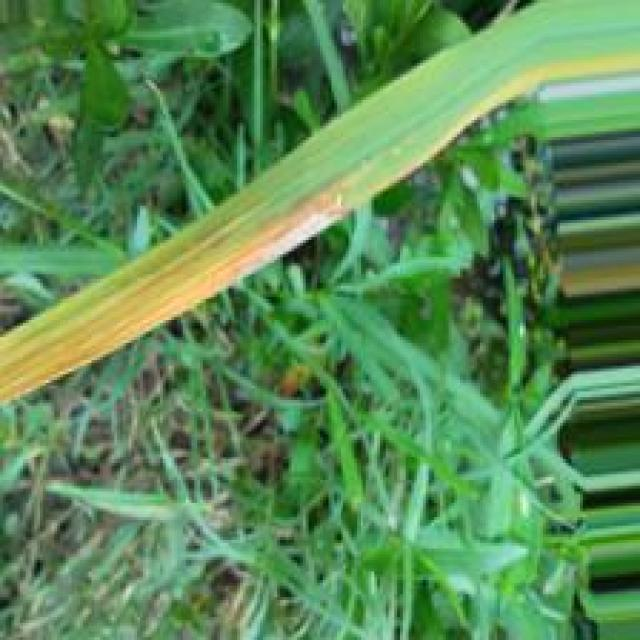Leaf_Blast: (193, 170, 348, 304)
